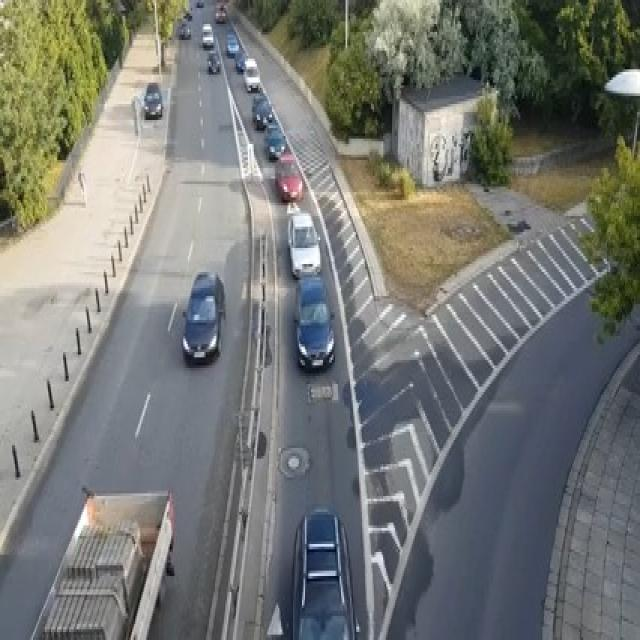bus: (27, 486, 174, 638)
car: (290, 507, 358, 637), (182, 269, 225, 363), (293, 274, 335, 370), (287, 211, 321, 277), (274, 152, 304, 200), (263, 123, 285, 160), (251, 93, 272, 128), (143, 80, 162, 117), (242, 56, 260, 91), (225, 32, 239, 56), (202, 21, 214, 48), (234, 48, 247, 72), (208, 48, 220, 72), (176, 19, 191, 37), (215, 3, 225, 21), (184, 8, 192, 19), (195, 0, 202, 5)
